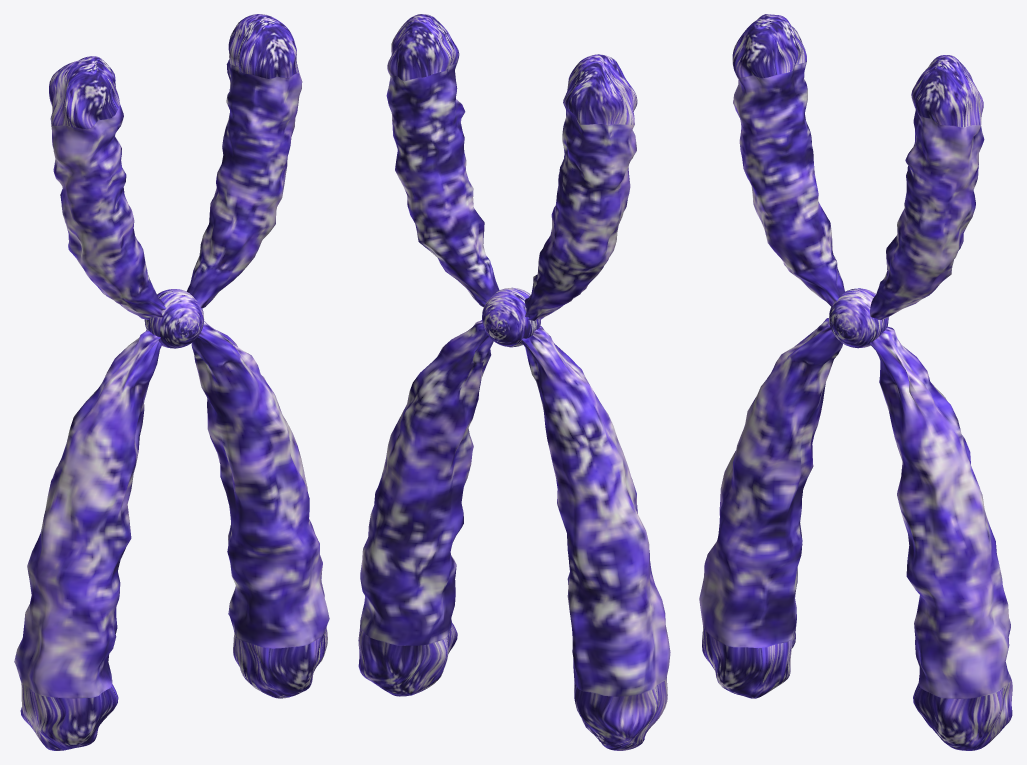
The model's file is chromosome.glb.
The picture shows the model from 3 angles, left to right: view 1: azimuth 30°, elevation 25°; view 2: azimuth 150°, elevation 25°; view 3: azimuth 330°, elevation 25°; orthographic projection.
Parts seen in each view (by area): view 1: chromosome.001; view 2: chromosome.001; view 3: chromosome.001.
Part boxes in pixels (left/top/right/bottom): chromosome.001: left=14, top=14, right=329, bottom=750; chromosome.001: left=358, top=14, right=670, bottom=750; chromosome.001: left=699, top=14, right=1012, bottom=750.
Size of the model in its own units: 0.2985 by 0.6578 by 0.0901.
Materials: 1 (1 with a texture image).
